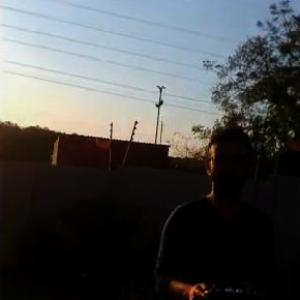follow: (149, 124, 280, 299)
